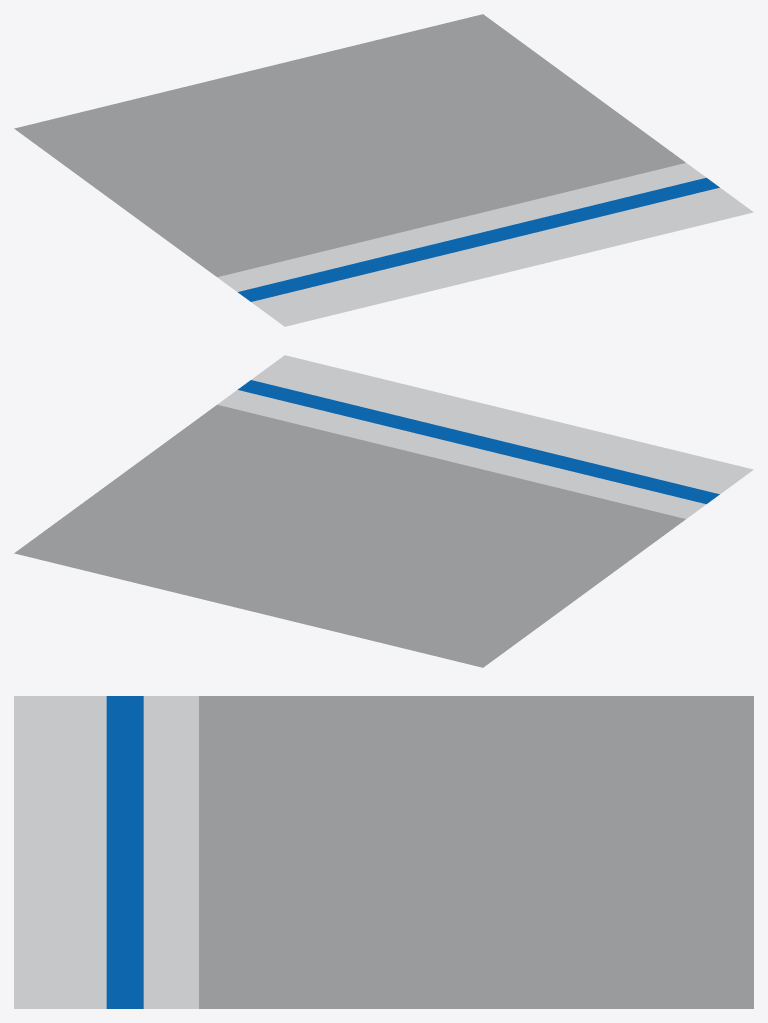
Rendered from Ceiling_type_A_037.fbx.
The picture shows the model from 3 angles, top to bottom: view 1: azimuth 30°, elevation 25°; view 2: azimuth 150°, elevation 25°; view 3: azimuth 270°, elevation 25°; orthographic projection. The views are drawn at different scales.
Visible parts, largest first — view 1: Ceiling_type_A_037; view 2: Ceiling_type_A_037; view 3: Ceiling_type_A_037.
Part boxes in pixels (x1=…): Ceiling_type_A_037: x1=14, y1=14, x2=753, y2=326; Ceiling_type_A_037: x1=14, y1=355, x2=753, y2=667; Ceiling_type_A_037: x1=14, y1=696, x2=753, y2=1008.
Bounding box in the file's own units: 400 × 400 × 1.2.
